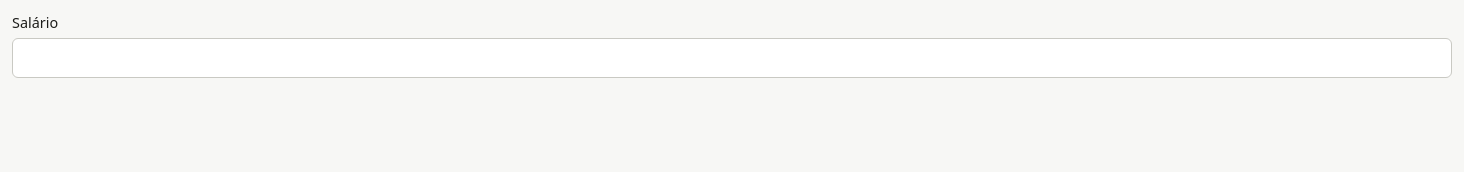
Test: NumberField › abaixo do mínimo é inválido
In the field labelled "Salário": (732, 58) top-left (12, 38), bottom-right (1452, 78), type "-5"
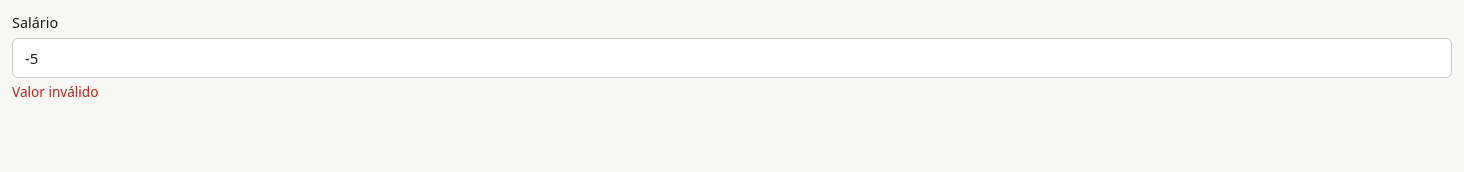
Expected: the text "Valor inválido" is shown, top-left (12, 82), bottom-right (98, 101)
